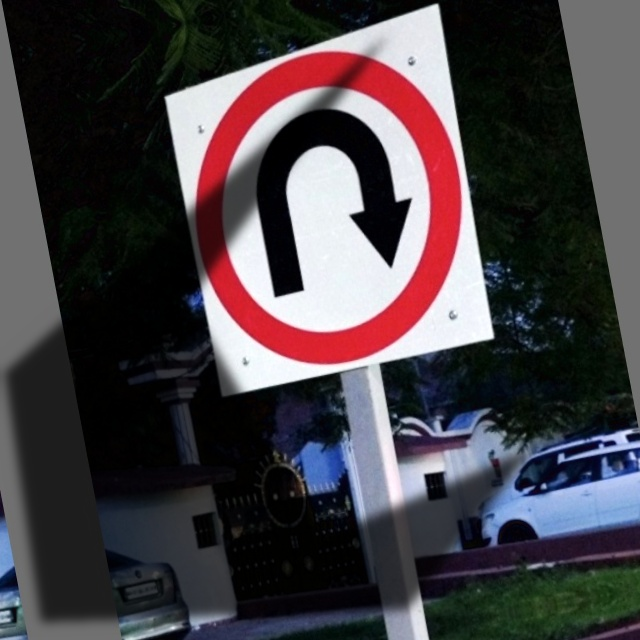U_Turn_Ahead: (158, 36, 493, 383)
